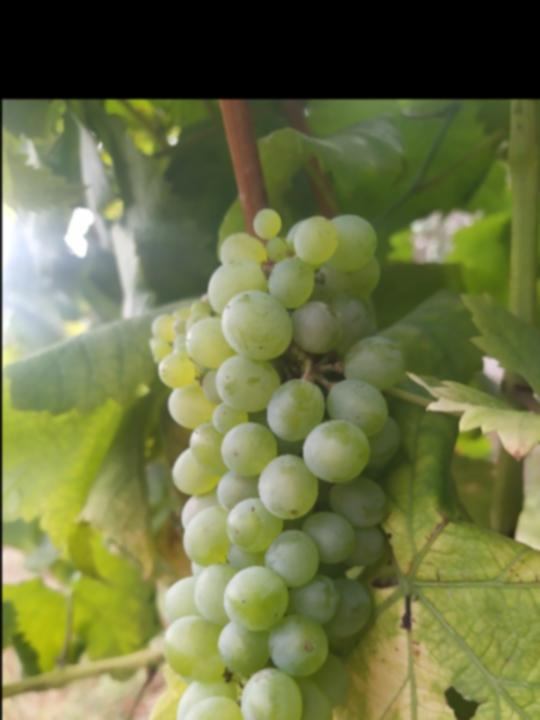grape: (156, 207, 410, 720)
